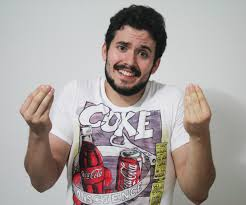hand: (19, 84, 55, 135), (183, 83, 212, 136)
